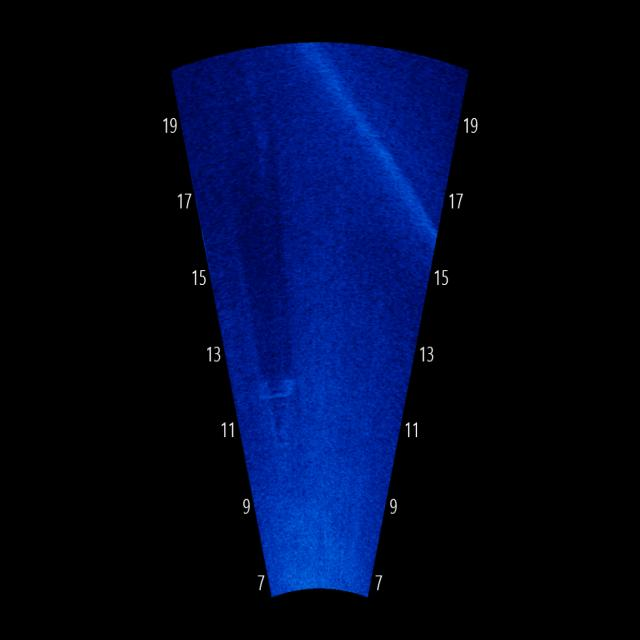triangle: (258, 374, 302, 460)
